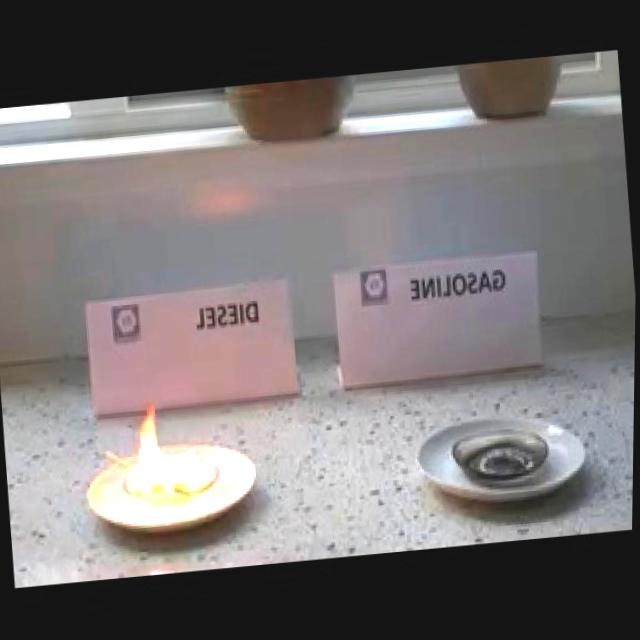Fire: (123, 393, 216, 504)
